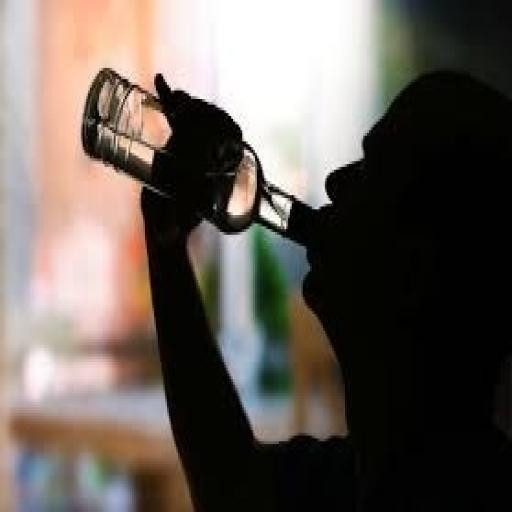drinking: (79, 65, 316, 246)
